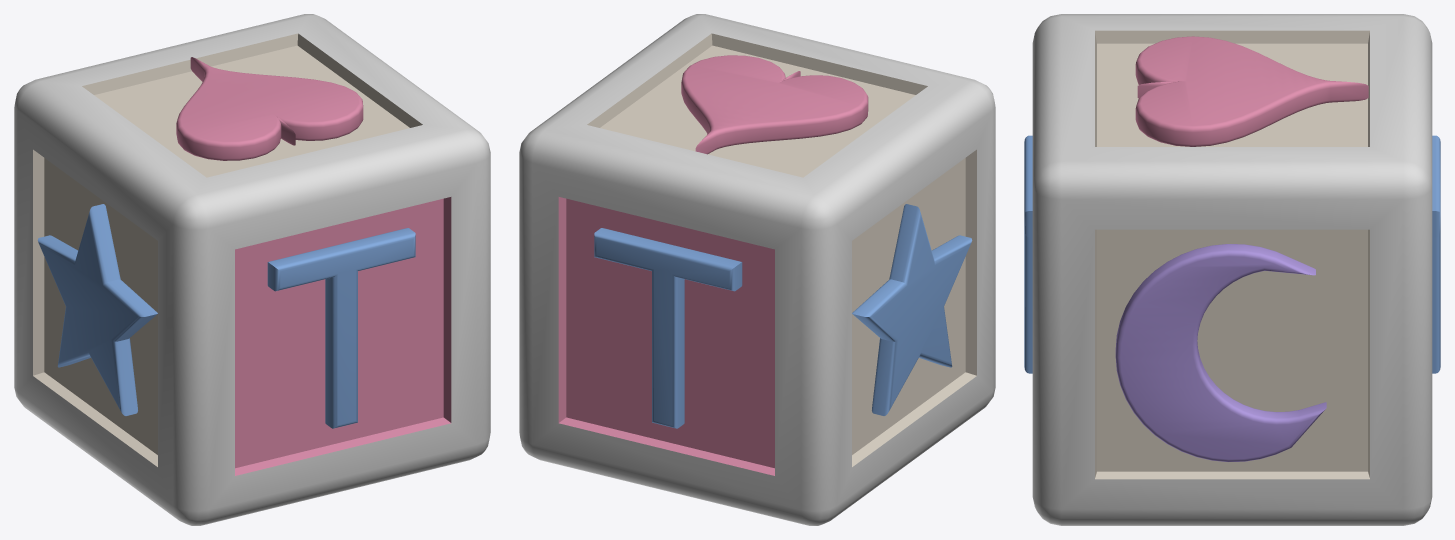
File: W6_Block_T.fbx
3 renders of one model, left to right at view 1: azimuth 30°, elevation 25°; view 2: azimuth 150°, elevation 25°; view 3: azimuth 270°, elevation 25°, orthographic. The views are drawn at different scales.
Visible parts, largest first — view 1: W6_Block_T; view 2: W6_Block_T; view 3: W6_Block_T.
Boxes of the visible parts, <box> form: W6_Block_T: <box>14,14,490,525</box>; W6_Block_T: <box>519,14,995,525</box>; W6_Block_T: <box>1024,14,1440,525</box>.
Bounding box in the file's own units: 0.375 × 0.3675 × 0.375.
